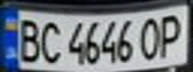4: (100, 17, 121, 64), (63, 18, 84, 65)
6: (115, 16, 139, 63), (81, 18, 103, 65)
B: (12, 15, 42, 63)
C: (36, 17, 63, 65)
O: (136, 14, 166, 62)
P: (154, 10, 187, 60)
